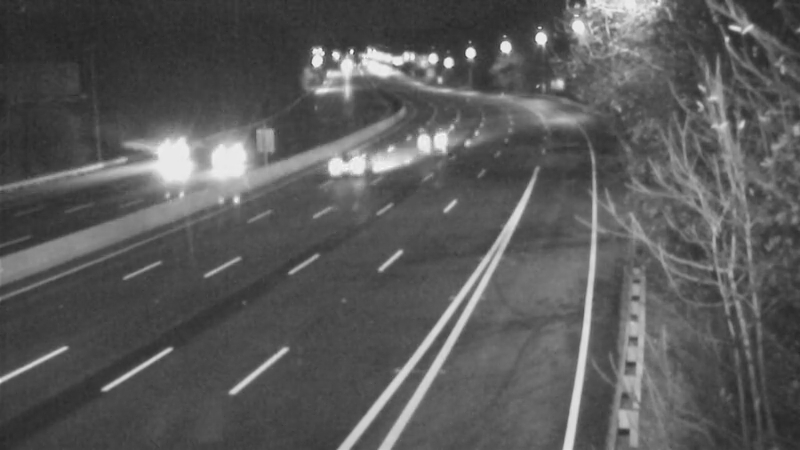vehicle: (306, 126, 386, 206), (130, 122, 210, 202), (186, 118, 266, 198), (405, 118, 455, 168)
